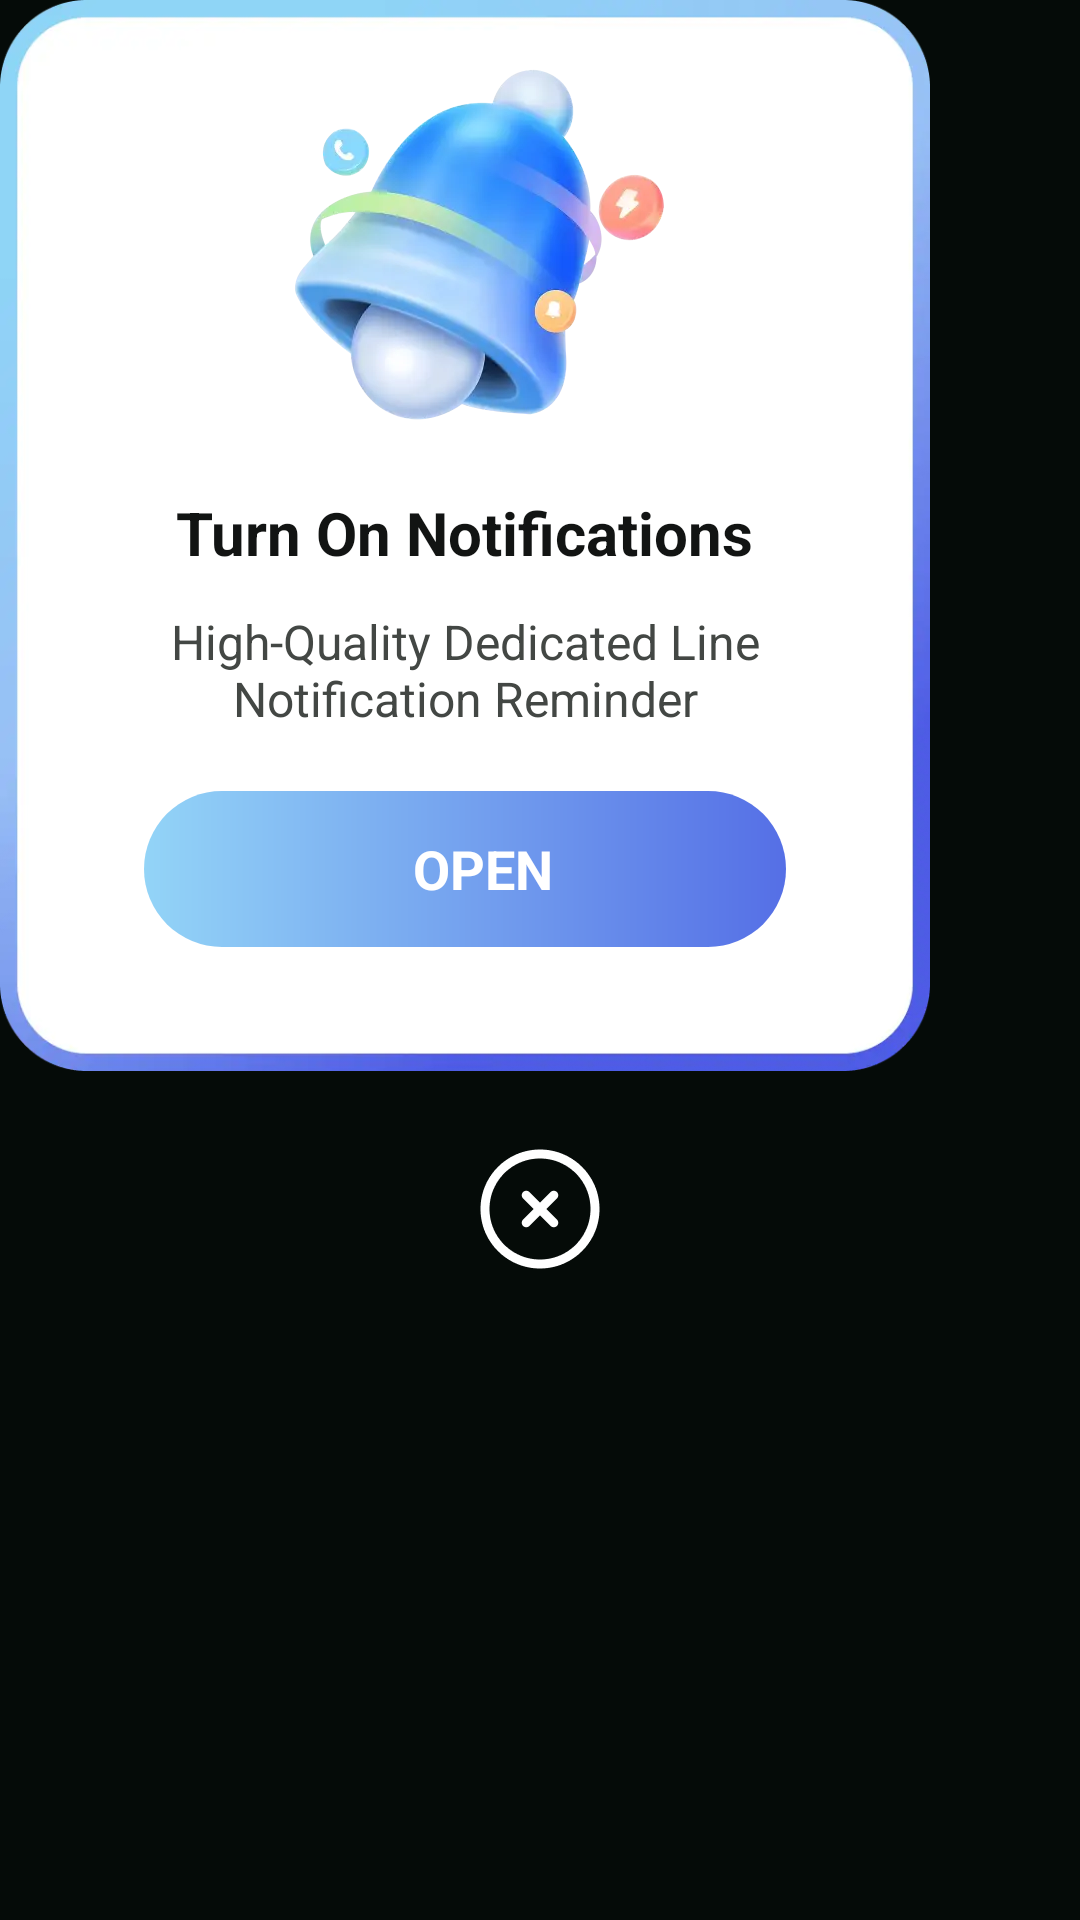

Named icons in this screenshot (1080 x 1920) and their centers, (x=x, y=y):
close: (x=540, y=1209)
